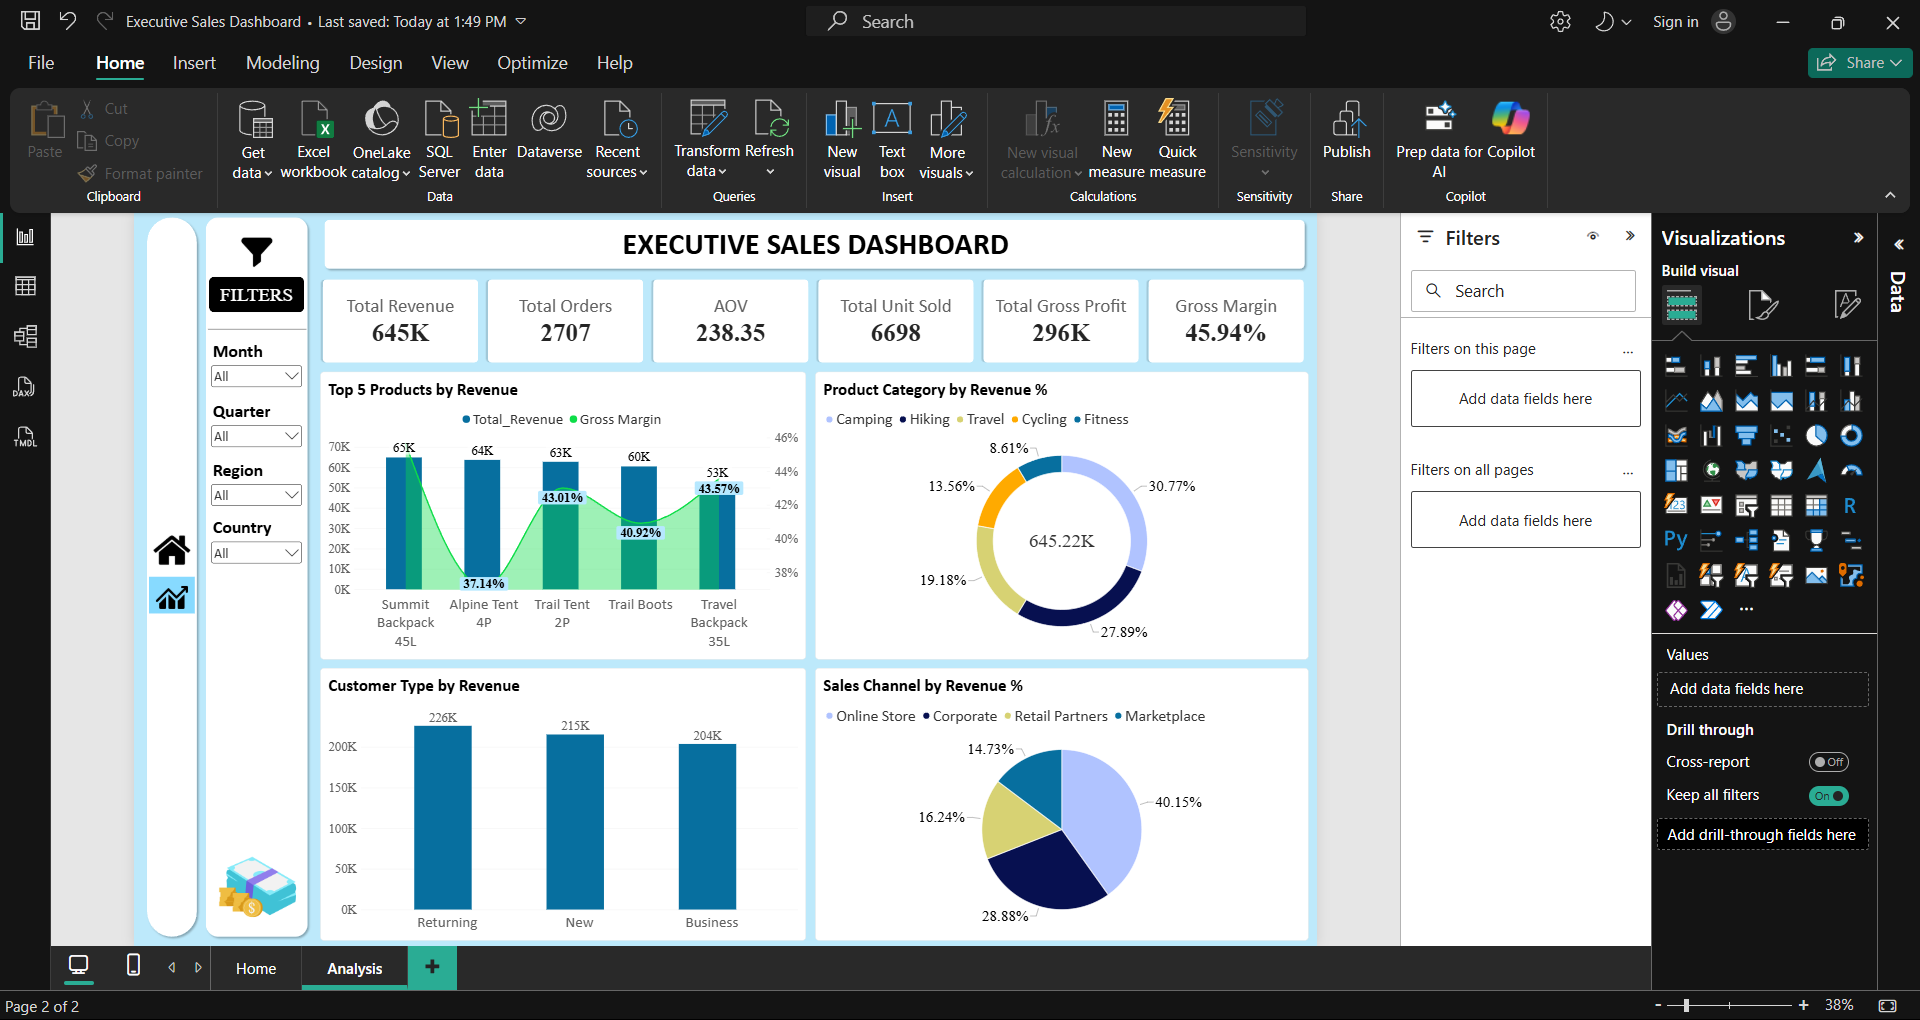

The page's visual inventory and layout, read from the dashboard file:
{"tool":"powerbi","page":{"name":"Analysis","canvas":[2500,1550],"ordinal":1},"visuals":[{"type":"shape","box":[142,0,233.2,1538.4],"z":0},{"type":"slicer","fields":{"Values":["Date_Table.Quarter"]},"box":[158.1,396.7,201,112.6],"z":0,"group":"g1"},{"type":"shape","box":[18.8,0,123.3,1538.4],"z":1000},{"type":"slicer","fields":{"Values":["Date_Table.Month_Name"]},"box":[158.1,270.7,201,112.6],"z":1000,"group":"g1"},{"type":"cardVisual","fields":{"Data":["ALL Measures.Total_Revenue","ALL Measures.Total Orders","ALL Measures.AOV","ALL Measures.Total Unit Sold","ALL Measures.Total Gross Profit","ALL Measures.Gross Margin"]},"box":[394,134,2087.8,187.6],"z":2000},{"type":"slicer","fields":{"Values":["SalesDataTable.Country"]},"box":[158.1,643.2,201,107.2],"z":2000,"group":"g1"},{"type":"slicer","fields":{"Values":["SalesDataTable.Region"]},"box":[158.1,522.6,201,107.2],"z":3000,"group":"g1"},{"type":"image","box":[32.2,672.7,96.5,77.7],"z":3000},{"type":"shape","box":[155.4,238.5,209,16.1],"z":4000},{"type":"image","box":[32.2,769.2,96.5,77.7],"z":5000},{"type":"image","box":[211.7,42.9,96.5,77.7],"z":6000},{"type":"shape","box":[158.1,134,201,75],"z":7000},{"type":"group","id":"g1","title":"Group 1","box":[158.1,270.7,201,479.7],"z":8000},{"type":"image","box":[168.8,1329.3,184.9,190.3],"z":9000},{"type":"pieChart","title":"Sales Channel by Revenue %  ","fields":{"Category":["SalesDataTable.Sales Channel"],"Y":["ALL Measures.Total_Revenue"]},"box":[1439.2,962.2,1042.6,576.2],"z":10000},{"type":"donutChart","title":"Product Category by Revenue % ","fields":{"Category":["SalesDataTable.Product Category"],"Y":["ALL Measures.Total_Revenue"]},"box":[1439.2,335,1042.6,608.4],"z":11000},{"type":"clusteredColumnChart","title":"Customer Type by Revenue","fields":{"Category":["SalesDataTable.Customer Type"],"Y":["ALL Measures.Total_Revenue"]},"box":[394,962.2,1026.5,576.2],"z":12000},{"type":"lineClusteredColumnComboChart","title":"Top 5 Products by Revenue","fields":{"Category":["SalesDataTable.Product"],"Y":["ALL Measures.Total_Revenue"],"Y2":["ALL Measures.Gross Margin"]},"box":[394,335,1026.5,608.4],"z":13000},{"type":"shape","box":[393.6,5.3,2089.4,121.5],"z":14000}]}

Visuals, with their boxes on the page's 2500x1550 design canvas (x1, y1, x2, y2). These are canvas units, not pixel positions in the 1920x1020 screenshot, which may show the page scaled, cropped or inside an application window:
shape: left=142, top=0, right=375, bottom=1538
slicer - Date_Table.Quarter: left=158, top=397, right=359, bottom=509
shape: left=19, top=0, right=142, bottom=1538
slicer - Date_Table.Month_Name: left=158, top=271, right=359, bottom=383
cardVisual - ALL Measures.Total_Revenue x ALL Measures.Total Orders: left=394, top=134, right=2482, bottom=322
slicer - SalesDataTable.Country: left=158, top=643, right=359, bottom=750
slicer - SalesDataTable.Region: left=158, top=523, right=359, bottom=630
image: left=32, top=673, right=129, bottom=750
shape: left=155, top=238, right=364, bottom=255
image: left=32, top=769, right=129, bottom=847
image: left=212, top=43, right=308, bottom=121
shape: left=158, top=134, right=359, bottom=209
"Group 1" group: left=158, top=271, right=359, bottom=750
image: left=169, top=1329, right=354, bottom=1520
"Sales Channel by Revenue %  " pieChart: left=1439, top=962, right=2482, bottom=1538
"Product Category by Revenue % " donutChart: left=1439, top=335, right=2482, bottom=943
"Customer Type by Revenue" clusteredColumnChart: left=394, top=962, right=1420, bottom=1538
"Top 5 Products by Revenue" lineClusteredColumnComboChart: left=394, top=335, right=1420, bottom=943
shape: left=394, top=5, right=2483, bottom=127
